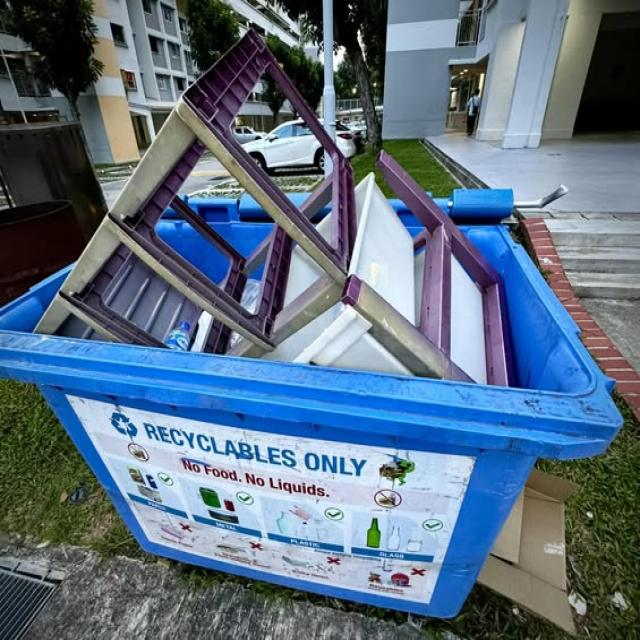bin_full: (2, 125, 632, 631)
bulk_waste: (72, 50, 452, 335)
normal_waste: (567, 589, 587, 617)
vehicle: (242, 119, 323, 171), (337, 124, 357, 158)
